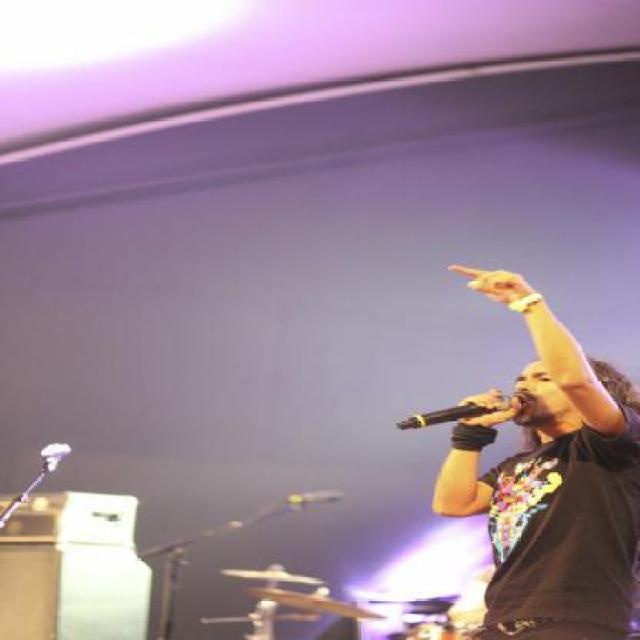Person: (432, 264, 639, 639)
